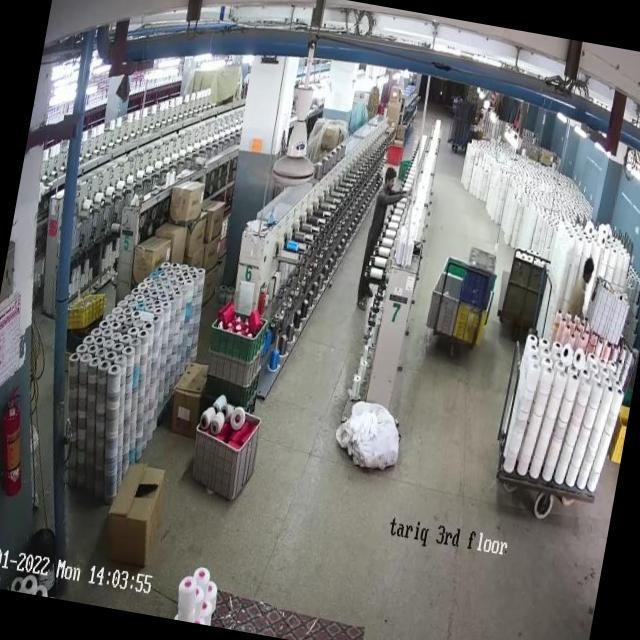person: (354, 161, 399, 304)
